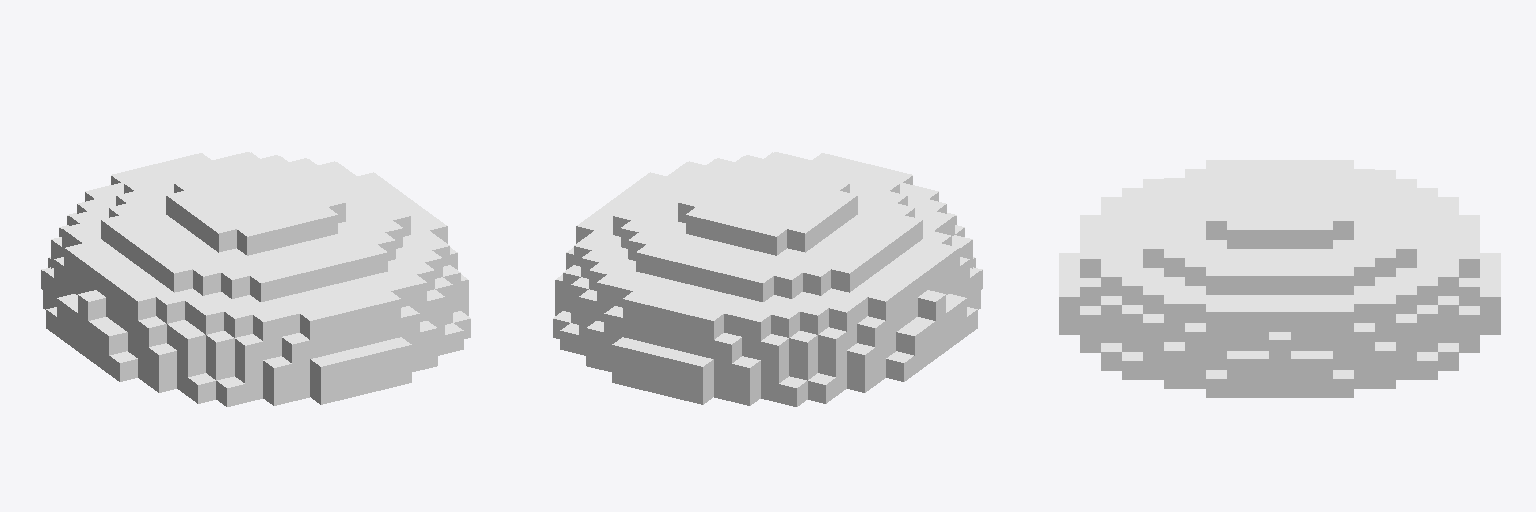
The model's file is character_burgertop.obj.
3 renders of one model, left to right at view 1: azimuth 30°, elevation 25°; view 2: azimuth 150°, elevation 25°; view 3: azimuth 270°, elevation 25°, orthographic.
Bounding box in the file's own units: 19 × 6 × 21.